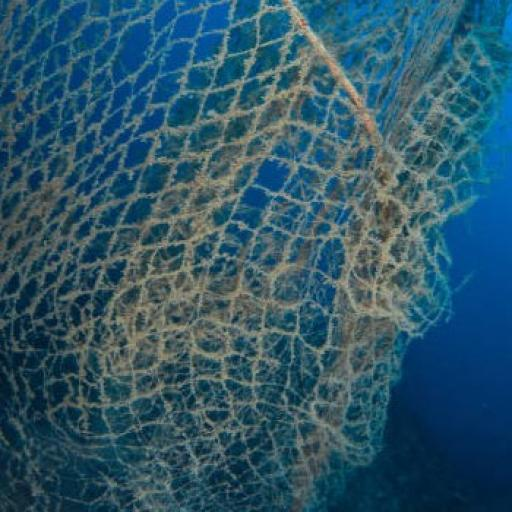net: (1, 3, 512, 510)
